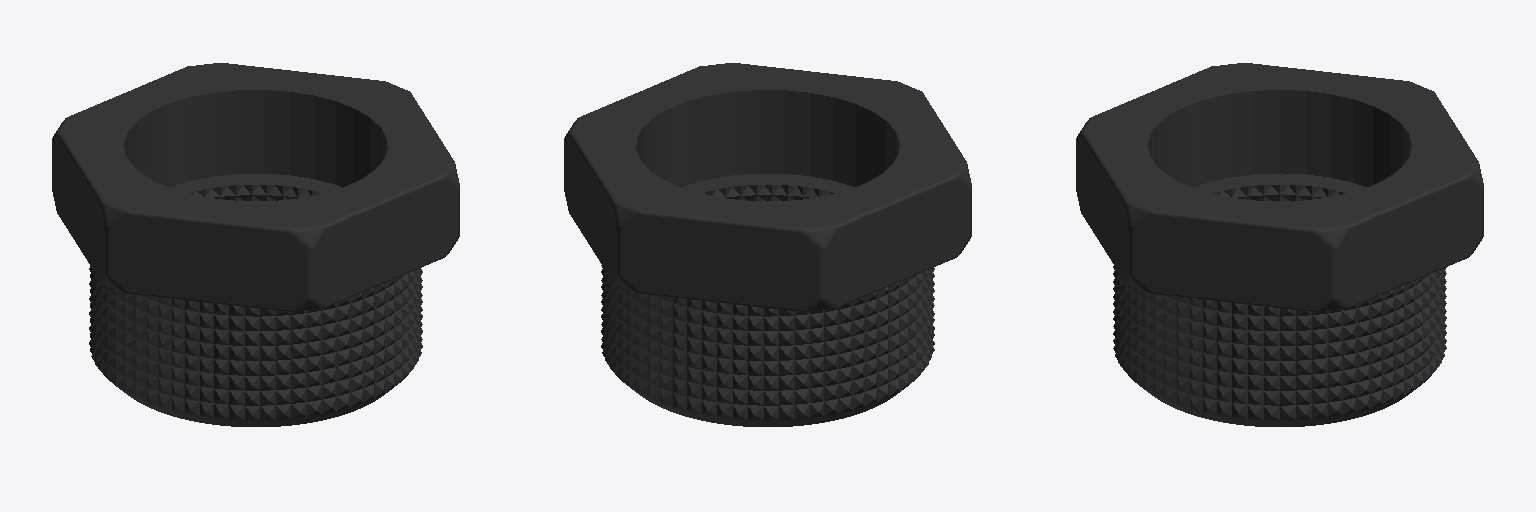
Rendered from koniec_str_m.obj.
3 renders of one model, left to right at view 1: azimuth 30°, elevation 25°; view 2: azimuth 150°, elevation 25°; view 3: azimuth 270°, elevation 25°, orthographic.
Visible parts, largest first — view 1: BezierCircle.030_Mesh.046; view 2: BezierCircle.030_Mesh.046; view 3: BezierCircle.030_Mesh.046.
Boxes of the visible parts, x1,y1,x2,y2 form: BezierCircle.030_Mesh.046: [52, 63, 459, 426]; BezierCircle.030_Mesh.046: [564, 63, 971, 426]; BezierCircle.030_Mesh.046: [1076, 63, 1483, 426].
Size of the model in its own units: 0.2018 by 0.1204 by 0.2018.